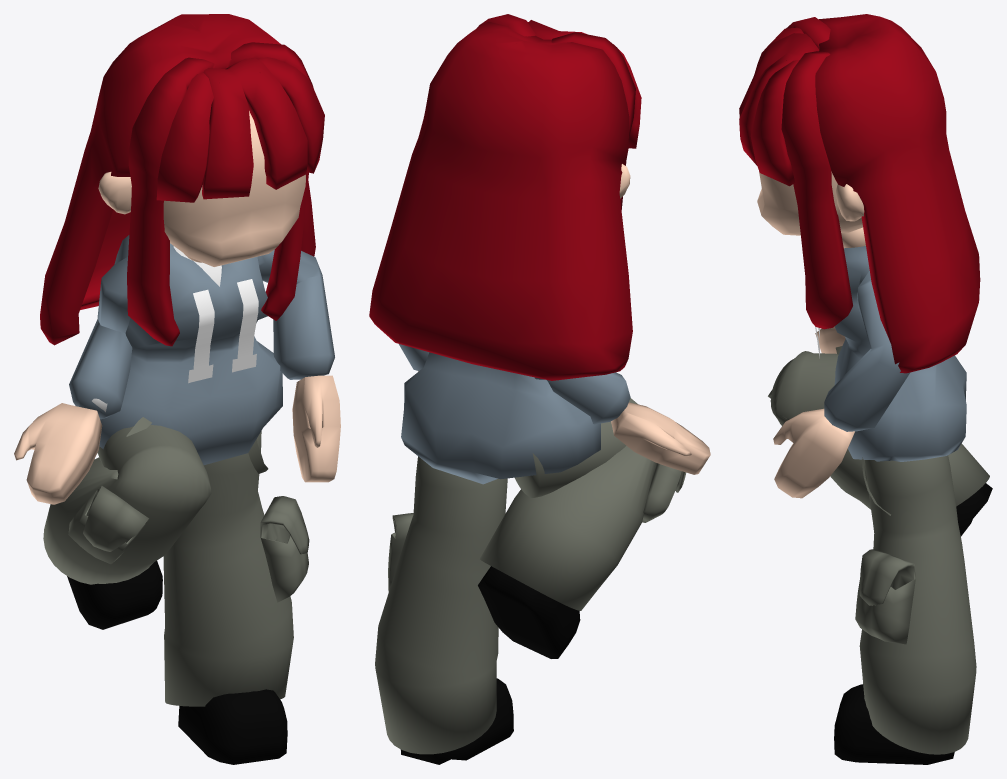
The model's file is umi_run_3.glb.
The picture shows the model from 3 angles, left to right: view 1: azimuth 30°, elevation 25°; view 2: azimuth 150°, elevation 25°; view 3: azimuth 270°, elevation 25°; orthographic projection. The views are drawn at different scales.
Parts seen in each view (by area): view 1: pants, sweater, hair.003, hair.001, hair, hand, feet, head, bolsillo, hair.002, Plane, ear (+1 smaller); view 2: hair.003, pants, sweater, feet, hand, bolsillo, hair.001; view 3: hair.003, pants, sweater, hair.001, hand, feet, bolsillo, hair.002, hair, head, ear.
Part boxes in pixels (bbox=[...]): pants: bbox=[43, 424, 293, 706]; sweater: bbox=[69, 235, 334, 465]; hair.003: bbox=[40, 14, 315, 345]; hair.001: bbox=[127, 42, 313, 346]; hair: bbox=[202, 57, 307, 199]; hand: bbox=[14, 375, 340, 504]; feet: bbox=[67, 561, 287, 764]; head: bbox=[163, 111, 305, 266]; bolsillo: bbox=[68, 486, 309, 602]; hair.002: bbox=[156, 57, 324, 202]; Plane: bbox=[188, 279, 258, 383]; ear: bbox=[98, 172, 131, 214]; hair.003: bbox=[369, 21, 632, 380]; pants: bbox=[375, 398, 655, 754]; sweater: bbox=[399, 344, 630, 484]; feet: bbox=[400, 566, 580, 764]; hand: bbox=[418, 371, 710, 474]; bolsillo: bbox=[388, 463, 685, 591]; hair.001: bbox=[477, 14, 635, 209]; hair.003: bbox=[815, 14, 980, 373]; pants: bbox=[770, 351, 989, 754]; sweater: bbox=[824, 246, 966, 461]; hair.001: bbox=[781, 17, 852, 329]; hand: bbox=[773, 326, 854, 498]; feet: bbox=[834, 483, 992, 764]; bolsillo: bbox=[768, 389, 915, 644]; hair.002: bbox=[750, 27, 803, 186]; hair: bbox=[739, 33, 819, 165]; head: bbox=[757, 171, 862, 235]; ear: bbox=[836, 184, 864, 221].
Bounding box in the file's own units: 2.23 × 4.97 × 1.65.
